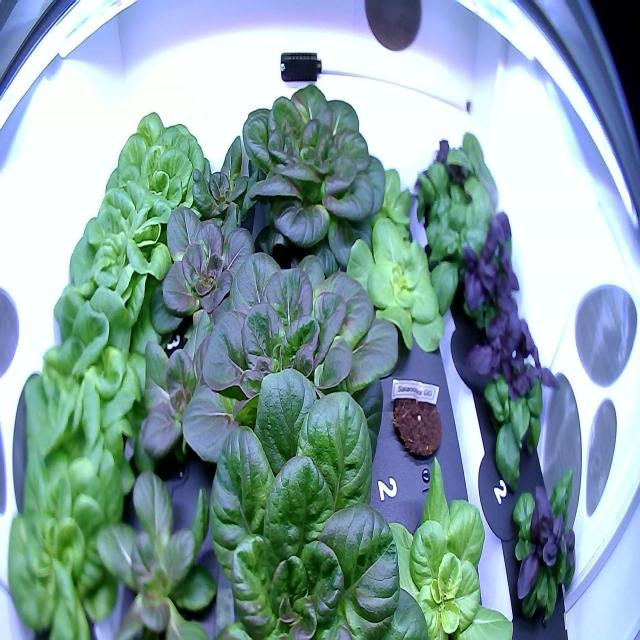Ready: (170, 364, 434, 640), (177, 236, 407, 498), (236, 75, 390, 272), (15, 273, 154, 488), (5, 431, 127, 640), (63, 175, 181, 312), (96, 97, 215, 229)
pod: (381, 373, 451, 471)
young: (351, 448, 525, 639), (88, 438, 226, 640), (122, 292, 256, 480), (330, 203, 464, 359), (154, 183, 264, 347), (183, 122, 256, 238), (350, 158, 425, 239)
